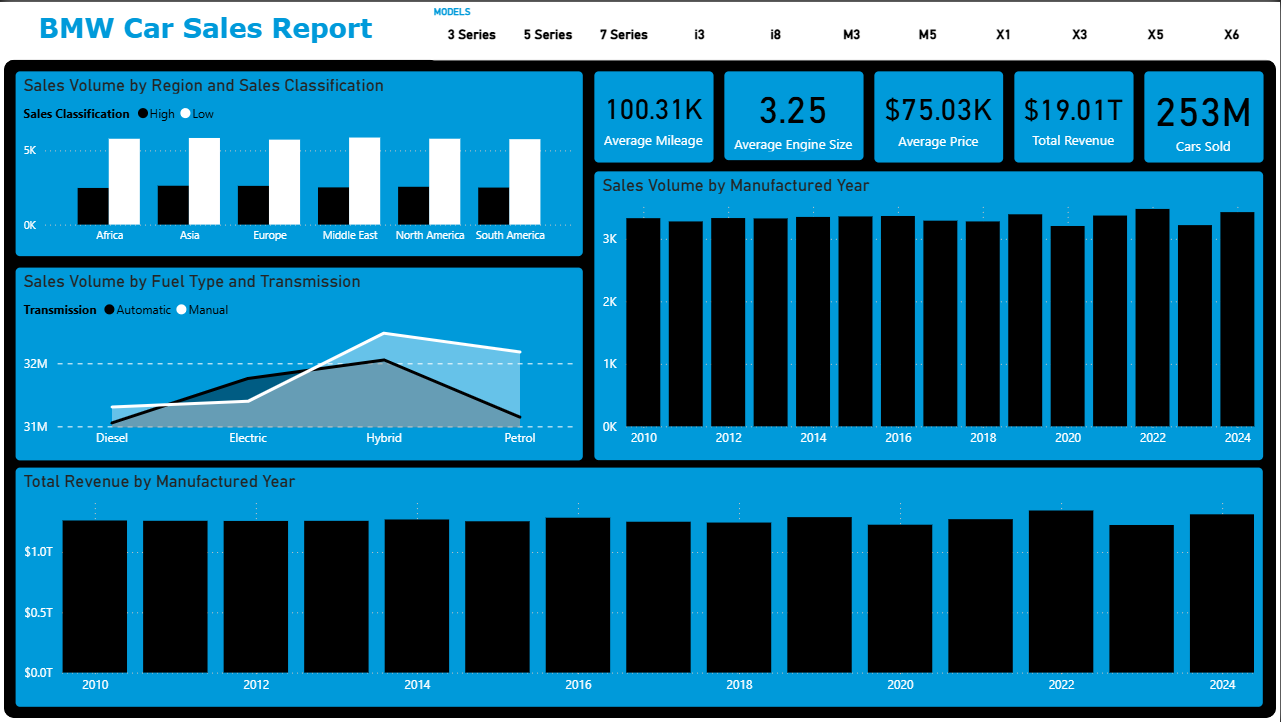

Layout of this report page (visuals, bound fields, positions):
{"tool":"powerbi","page":{"name":"Page 1","canvas":[1280,720],"ordinal":0},"visuals":[{"type":"shape","box":[0,53.8,1280,666.2],"z":0},{"type":"advancedSlicerVisual","title":"MODELS","fields":{"Values":["BMW_Car_Sales_Classification.Model"]},"box":[425,0,855,58.8],"z":1000},{"type":"textbox","box":[0,0,425,53.8],"z":2000},{"type":"card","fields":{"Values":["Sum(BMW_Car_Sales_Classification.Sales_Revenue)"]},"box":[1008.8,63.8,130,102.5],"z":3000},{"type":"card","fields":{"Values":["Sum(BMW_Car_Sales_Classification.Sales_Volume)"]},"box":[1138.8,63.8,130,102.5],"z":4000},{"type":"card","fields":{"Values":["Avg(BMW_Car_Sales_Classification.Price_USD)"]},"box":[868.8,63.8,140,102.5],"z":5000},{"type":"clusteredColumnChart","title":"Sales Volume by Region and Sales Classification","fields":{"Y":["CountNonNull(BMW_Car_Sales_Classification.Sales_Volume)"],"Series":["BMW_Car_Sales_Classification.Sales_Classification"],"Category":["BMW_Car_Sales_Classification.Region"]},"box":[10.5,64,577.9,196.5],"z":6000},{"type":"columnChart","title":"Sales Volume by Manufactured Year","fields":{"Category":["BMW_Car_Sales_Classification.Manufactured Year"],"Y":["CountNonNull(BMW_Car_Sales_Classification.Sales_Volume)"]},"box":[588.8,163.8,680,300],"z":7000},{"type":"card","title":"Average Engine Size","fields":{"Values":["Avg(BMW_Car_Sales_Classification.Engine_Size_L)"]},"box":[718.8,63.8,150,100],"z":8000},{"type":"areaChart","fields":{"Category":["BMW_Car_Sales_Classification.Fuel_Type"],"Series":["BMW_Car_Sales_Classification.Transmission"],"Y":["Sum(BMW_Car_Sales_Classification.Sales_Volume)"]},"box":[10,260,578.8,203.8],"z":9000},{"type":"card","fields":{"Values":["Avg(BMW_Car_Sales_Classification.Mileage_KM)"]},"box":[588.8,63.8,130,102.5],"z":10000},{"type":"columnChart","fields":{"Y":["Sum(BMW_Car_Sales_Classification.Sales_Revenue)"],"Category":["BMW_Car_Sales_Classification.Manufactured Year"]},"box":[10,460,1258.8,250],"z":11000},{"type":"image","box":[111.2,0,43.8,53.8],"z":12000}]}

Visuals, with their boxes in screenshot pixels (x1, y1, x2, y2), scaled from the page's 1280x720 canvas onto the 1281x722 screenshot:
shape: l=0, t=54, r=1280, b=721
"MODELS" advancedSlicerVisual: l=425, t=0, r=1280, b=59
textbox: l=0, t=0, r=425, b=54
card - Sum(BMW_Car_Sales_Classification.Sales_Revenue): l=1010, t=64, r=1140, b=167
card - Sum(BMW_Car_Sales_Classification.Sales_Volume): l=1140, t=64, r=1270, b=167
card - Avg(BMW_Car_Sales_Classification.Price_USD): l=869, t=64, r=1010, b=167
"Sales Volume by Region and Sales Classification" clusteredColumnChart: l=11, t=64, r=589, b=261
"Sales Volume by Manufactured Year" columnChart: l=589, t=164, r=1270, b=465
"Average Engine Size" card: l=719, t=64, r=869, b=164
areaChart - BMW_Car_Sales_Classification.Fuel_Type x BMW_Car_Sales_Classification.Transmission: l=10, t=261, r=589, b=465
card - Avg(BMW_Car_Sales_Classification.Mileage_KM): l=589, t=64, r=719, b=167
columnChart - Sum(BMW_Car_Sales_Classification.Sales_Revenue) x BMW_Car_Sales_Classification.Manufactured Year: l=10, t=461, r=1270, b=712
image: l=111, t=0, r=155, b=54
